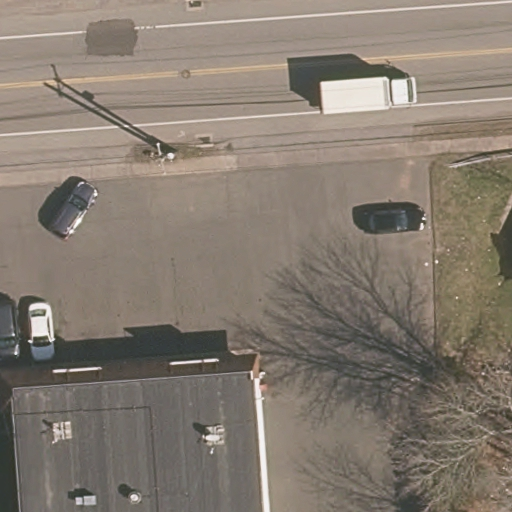DT: (140, 138, 180, 176)
